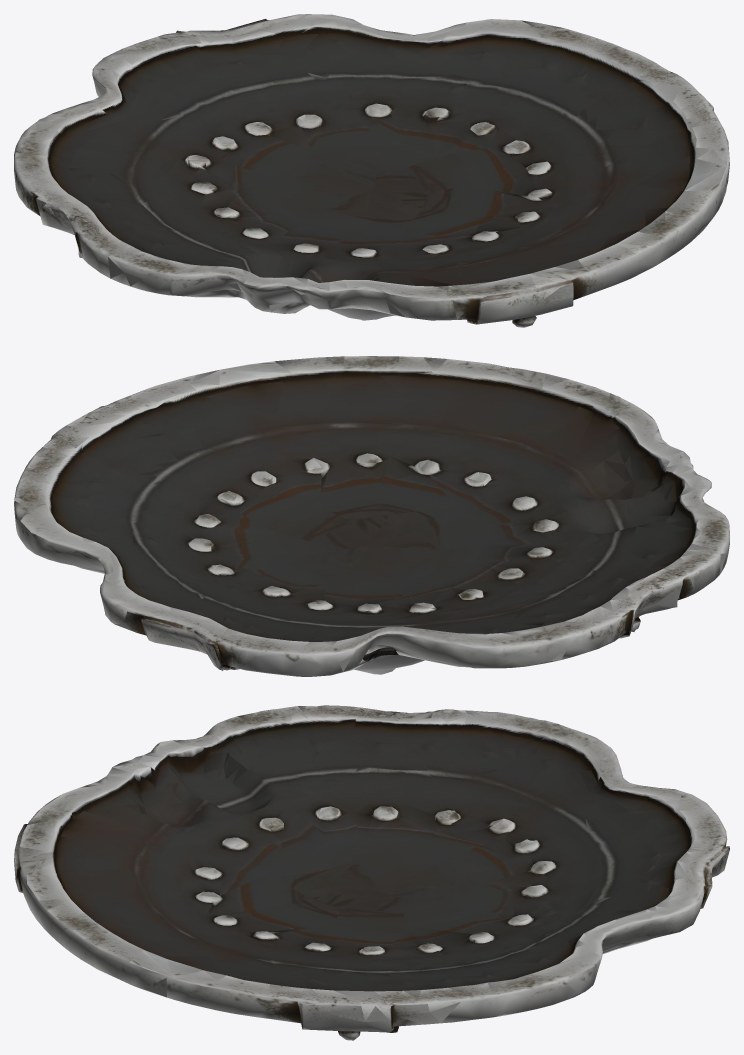
Rendered from shield0.glb.
The picture shows the model from 3 angles, top to bottom: view 1: azimuth 30°, elevation 25°; view 2: azimuth 150°, elevation 25°; view 3: azimuth 270°, elevation 25°; orthographic projection.
Visible parts, largest first — view 1: tripo_node_2800eb42; view 2: tripo_node_2800eb42; view 3: tripo_node_2800eb42.
Boxes of the visible parts, x1=… form: tripo_node_2800eb42: x1=14, y1=14, x2=729, y2=327; tripo_node_2800eb42: x1=14, y1=356, x2=729, y2=676; tripo_node_2800eb42: x1=14, y1=705, x2=729, y2=1040.
Bounding box in the file's own units: 0.4054 × 0.0955 × 0.4066.
1 material, 1 textured.
